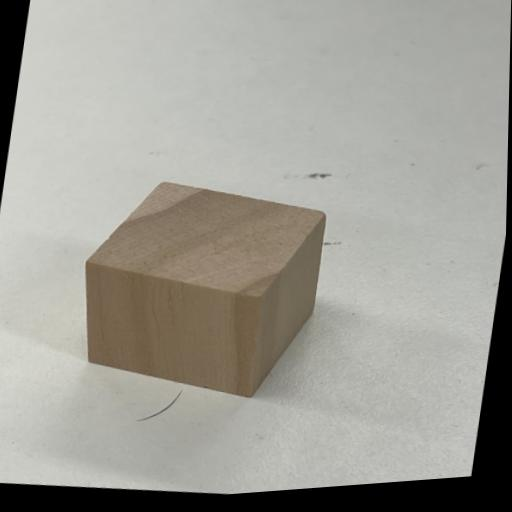wood cube: (85, 181, 325, 395)
